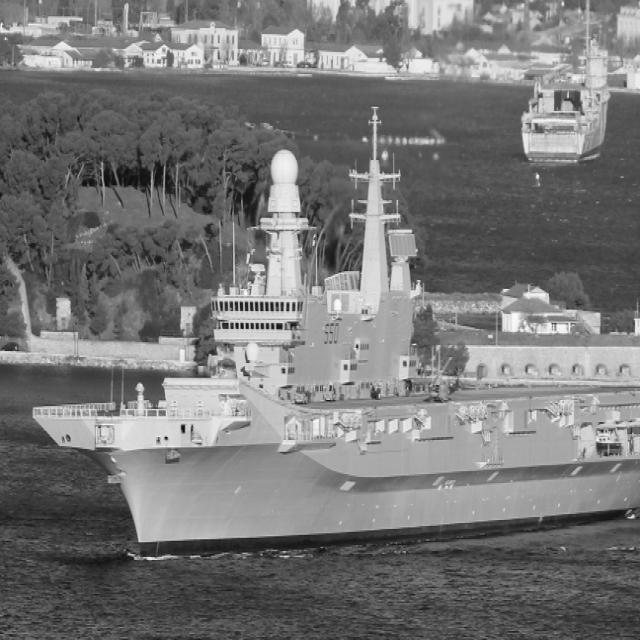Portanaves: (27, 86, 640, 574)
